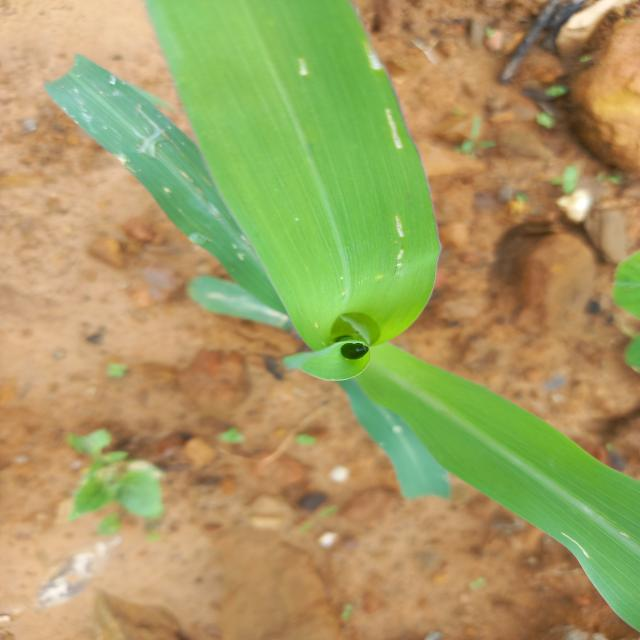maize: (143, 0, 527, 640)
weed: (50, 416, 179, 535), (436, 106, 524, 163), (557, 170, 604, 211)
